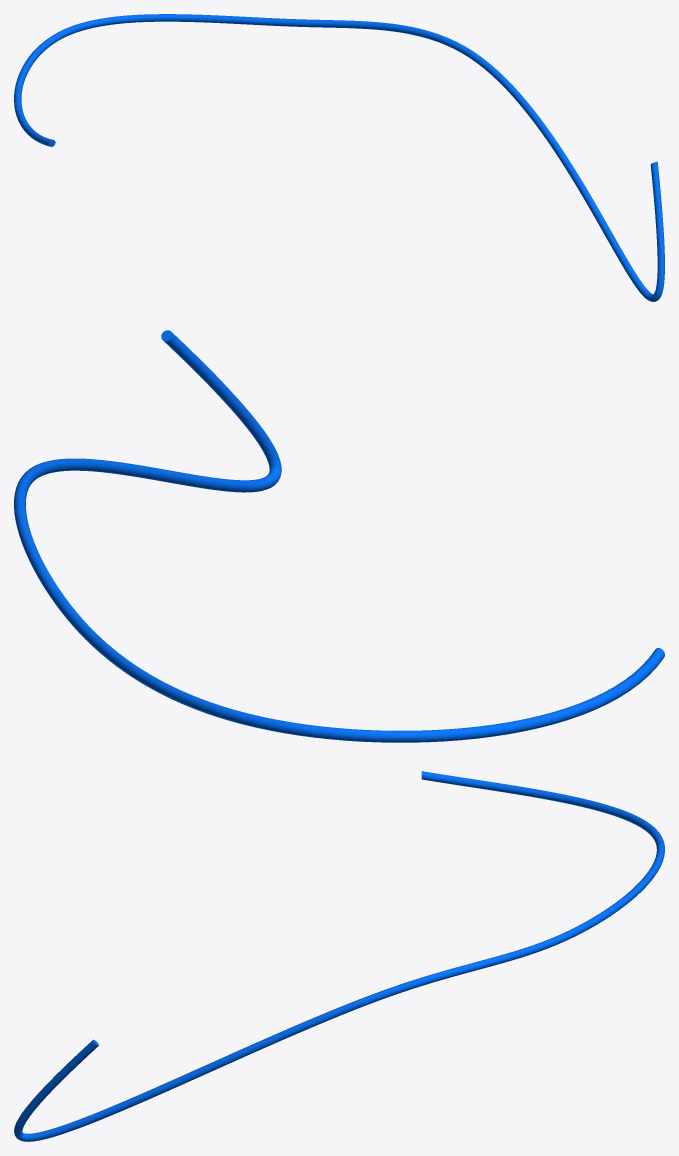
File: wire.fbx
3 views of the same model, one above another, from view 1: azimuth 30°, elevation 25°; view 2: azimuth 150°, elevation 25°; view 3: azimuth 270°, elevation 25° (orthographic). The views are drawn at different scales.
Visible parts, largest first — view 1: Wire jumer blue(1); view 2: Wire jumer blue(1); view 3: Wire jumer blue(1).
Part boxes in pixels (bbox=[...]): Wire jumer blue(1): bbox=[14, 14, 664, 301]; Wire jumer blue(1): bbox=[14, 330, 664, 742]; Wire jumer blue(1): bbox=[14, 771, 664, 1141].
Size of the model in its own units: 48.96 by 54.51 by 14.13.
